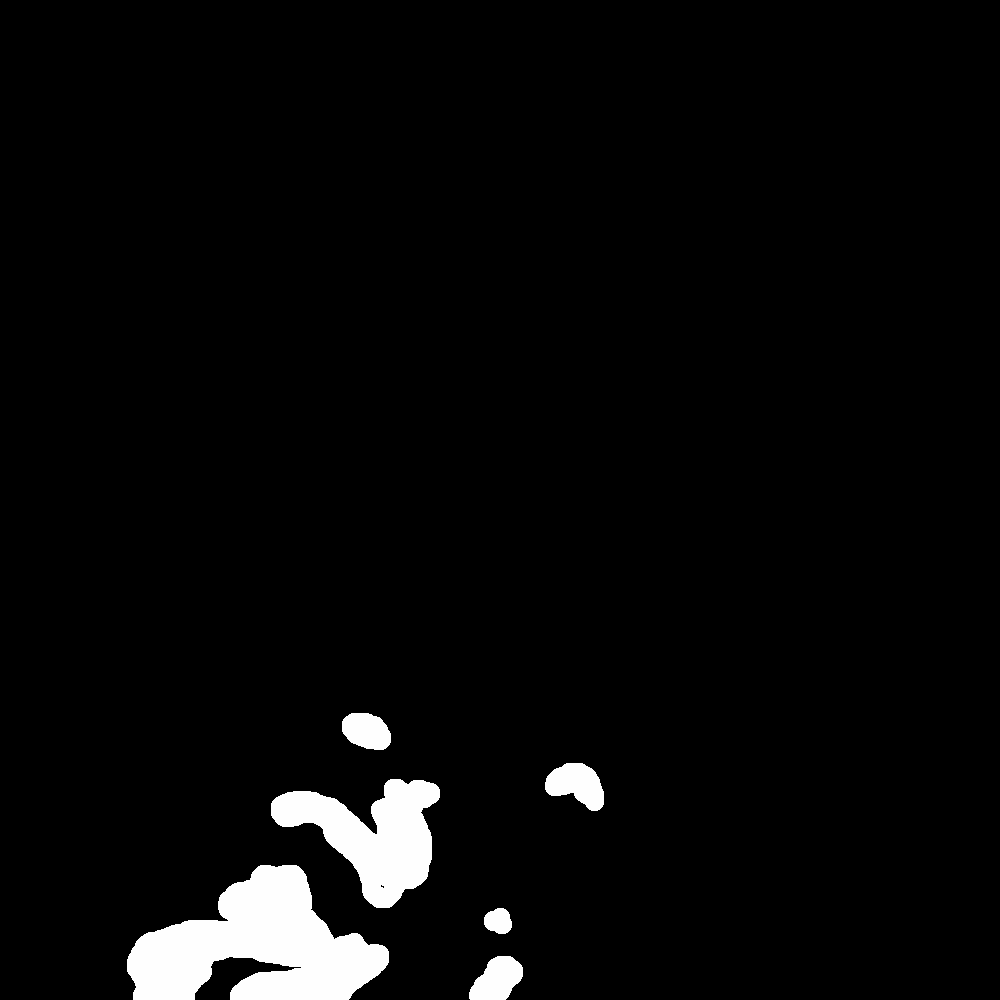illegal: (133, 863, 367, 1000), (272, 777, 447, 911), (467, 911, 520, 1000), (550, 760, 601, 806), (337, 713, 393, 738)
